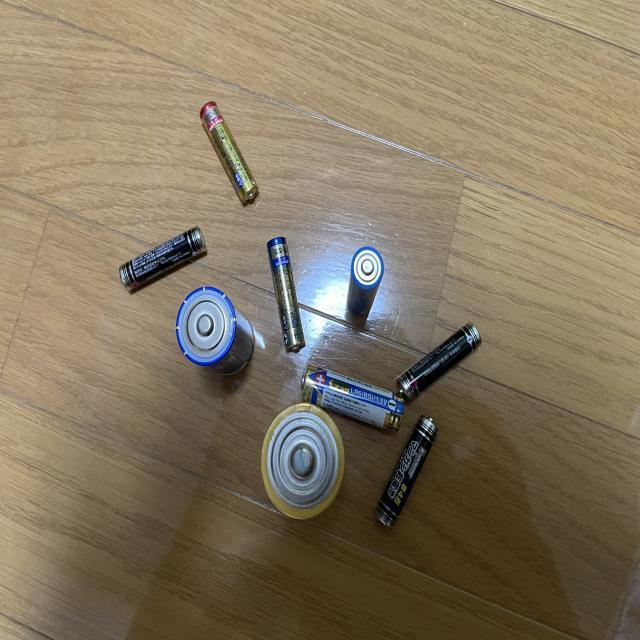battery: (259, 402, 347, 524), (373, 412, 439, 536), (174, 283, 258, 380), (394, 320, 486, 404), (301, 363, 405, 437), (197, 96, 267, 204), (115, 227, 209, 295), (266, 235, 306, 355), (347, 248, 385, 321)
